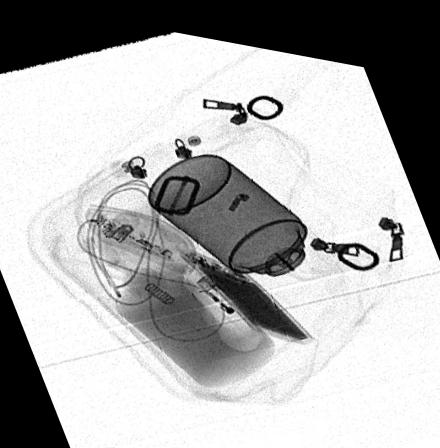Lighter: (196, 268, 264, 330)
Powerbank: (179, 243, 314, 332)
Sprayer: (149, 146, 347, 294)
